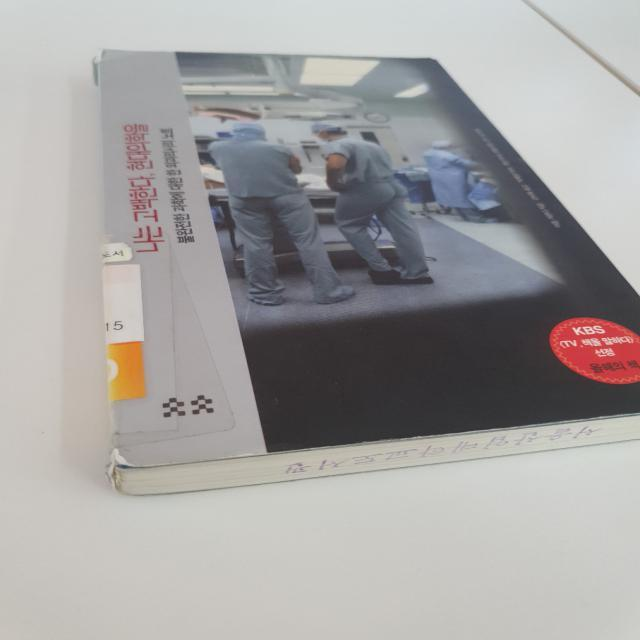Ripped: (94, 445, 146, 496), (87, 46, 113, 90)
Wornout: (351, 417, 465, 446), (528, 402, 639, 428)
